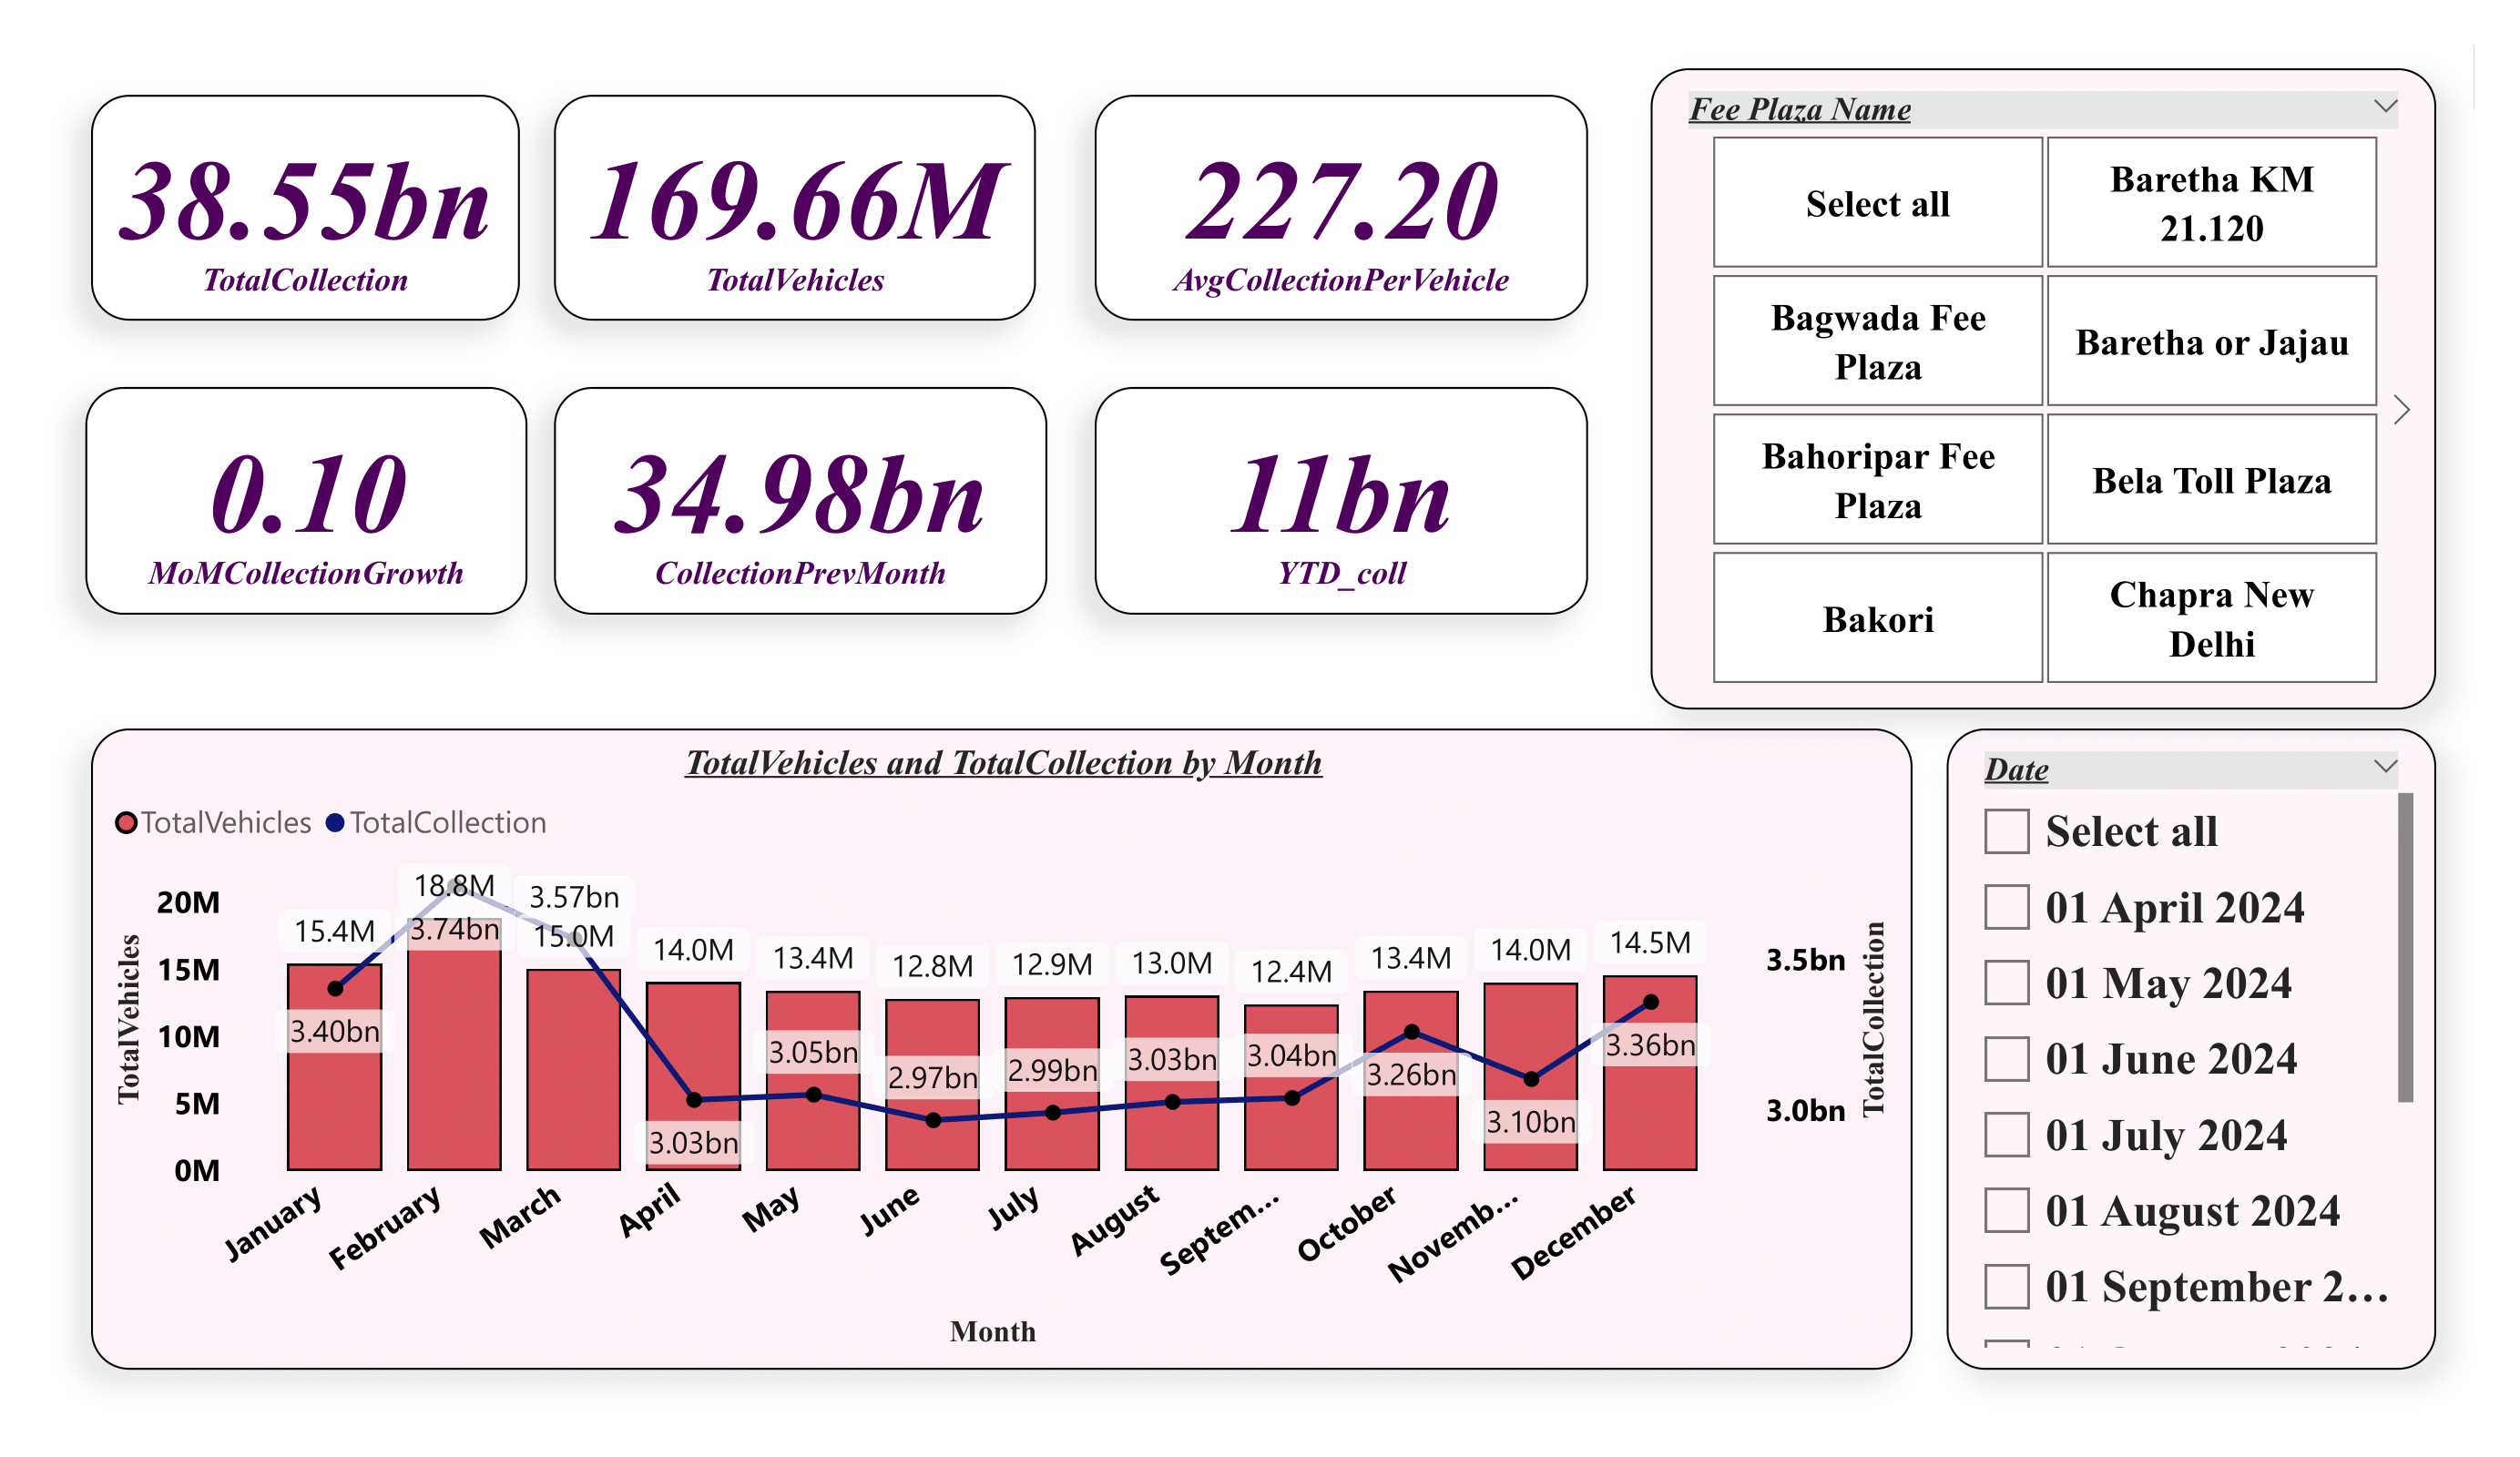

What the dashboard file says about the page in this screenshot:
{"tool":"powerbi","page":{"name":"Page 1","canvas":[1280,720],"ordinal":0},"visuals":[{"type":"card","fields":{"Values":["Measure Table.TotalCollection"]},"box":[24.2,25.7,225.6,119.6],"z":0},{"type":"card","fields":{"Values":["Measure Table.TotalVehicles"]},"box":[268,25.7,254.4,119.6],"z":1000},{"type":"card","fields":{"Values":["Measure Table.AvgTollPerVehicle"]},"box":[552.7,25.7,260.4,119.6],"z":2000},{"type":"card","fields":{"Values":["Measure Table.YTD_coll"]},"box":[552.7,180.2,260.4,119.6],"z":3000},{"type":"card","fields":{"Values":["Measure Table.CollectionPrevMonth"]},"box":[268,180.2,260.4,119.6],"z":4000},{"type":"card","fields":{"Values":["Measure Table.MoMCollectionGrowth"]},"box":[21.2,180.2,233.2,119.6],"z":5000},{"type":"lineClusteredColumnComboChart","fields":{"Category":["Toll data.Date.Variation.Date Hierarchy.Month"],"Y":["Measure Table.TotalVehicles"],"Y2":["Measure Table.TotalCollection"]},"box":[24.2,360.4,960,337.7],"z":6000},{"type":"slicer","fields":{"Values":["Toll data.Date"]},"box":[1002.4,360.4,257.4,337.7],"z":7000},{"type":"slicer","fields":{"Values":["Toll data.Fee Plaza Name"]},"box":[846.4,12.1,413.4,337.7],"z":8000}]}

Visuals, with their boxes in screenshot pixels (x1, y1, x2, y2):
card - Measure Table.TotalCollection: select_region(91, 95, 519, 321)
card - Measure Table.TotalVehicles: select_region(554, 95, 1036, 321)
card - Measure Table.AvgTollPerVehicle: select_region(1095, 95, 1588, 321)
card - Measure Table.YTD_coll: select_region(1095, 387, 1588, 615)
card - Measure Table.CollectionPrevMonth: select_region(554, 387, 1048, 615)
card - Measure Table.MoMCollectionGrowth: select_region(86, 387, 528, 615)
lineClusteredColumnComboChart - Toll data.Date.Variation.Date Hierarchy.Month x Measure Table.TotalVehicles: select_region(91, 729, 1913, 1370)
slicer - Toll data.Date: select_region(1948, 729, 2436, 1370)
slicer - Toll data.Fee Plaza Name: select_region(1652, 68, 2436, 709)
